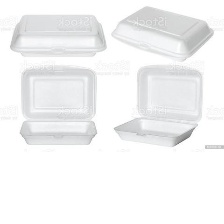foam_box: (110, 59, 208, 150), (15, 60, 101, 147), (109, 3, 217, 63), (7, 7, 110, 61)
